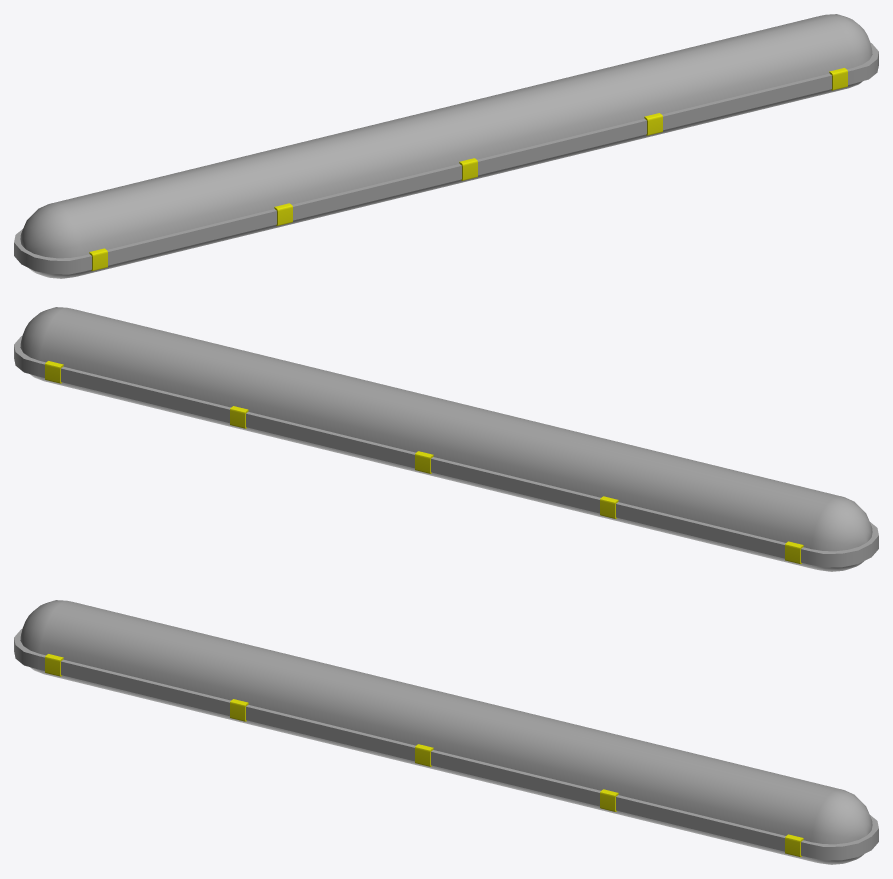
The model's file is Lampe_Neon.fbx.
The picture shows the model from 3 angles, top to bottom: view 1: azimuth 30°, elevation 25°; view 2: azimuth 150°, elevation 25°; view 3: azimuth 330°, elevation 25°; orthographic projection.
Visible parts, largest first — view 1: pCylinder1, pCube1, pCylinder3, pCube7; view 2: pCylinder1, pCube1, pCylinder3, pCube8; view 3: pCylinder1, pCube1, pCylinder3, pCube7.
Boxes of the visible parts, box(x1,y1,x2,y2) form: pCylinder1: box(20, 14, 872, 258); pCube1: box(14, 42, 878, 274); pCylinder3: box(29, 81, 862, 278); pCube7: box(89, 68, 847, 270); pCylinder1: box(20, 307, 872, 551); pCube1: box(14, 335, 878, 567); pCylinder3: box(30, 374, 863, 571); pCube8: box(45, 361, 803, 563); pCylinder1: box(20, 600, 872, 844); pCube1: box(14, 628, 878, 860); pCylinder3: box(30, 667, 863, 864); pCube7: box(45, 654, 803, 856).
Bounding box in the file's own units: 138 × 10.31 × 13.48.
